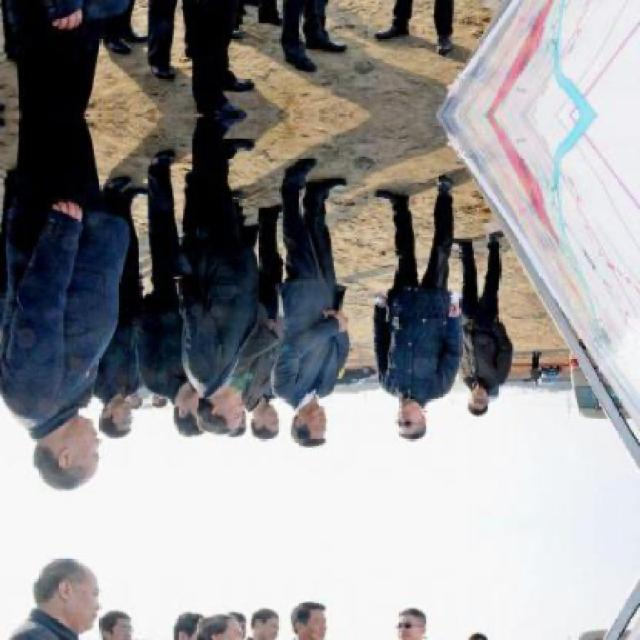sin casco: (4, 410, 144, 494), (356, 366, 454, 451), (262, 387, 357, 452), (188, 379, 255, 455), (434, 366, 512, 428)
